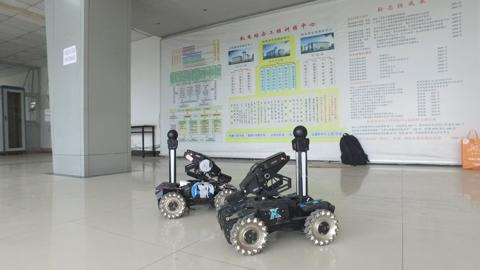chariot: (215, 117, 349, 254), (152, 125, 239, 222)
